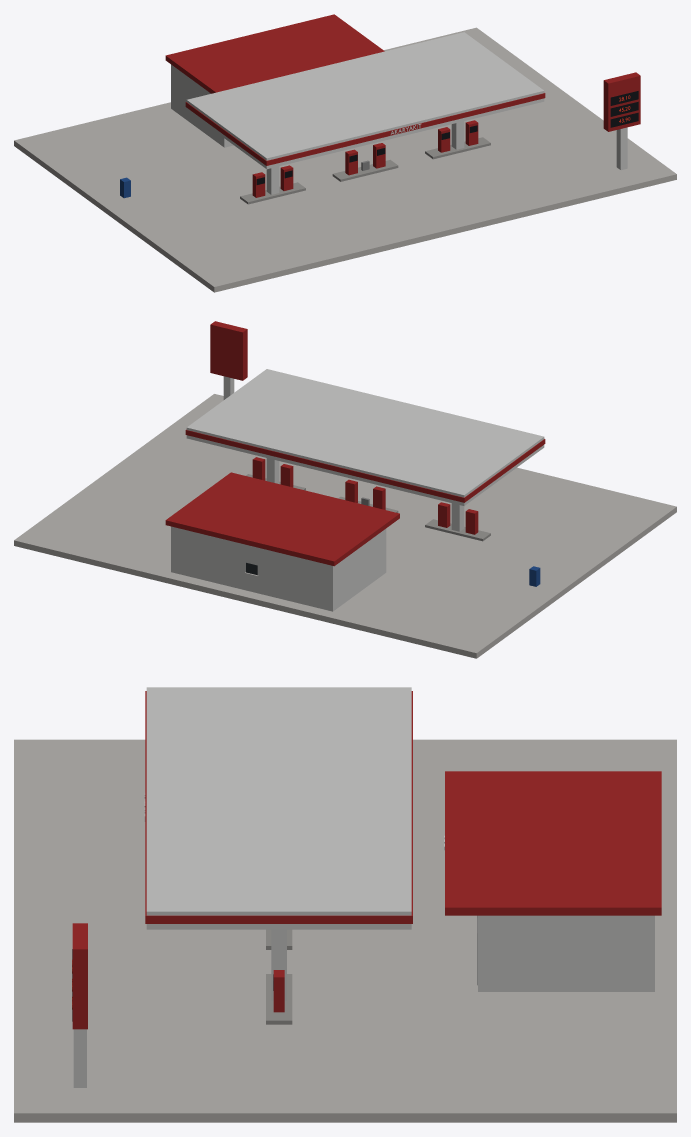
The model's file is bina_19.glb.
3 renders of one model, top to bottom at view 1: azimuth 30°, elevation 25°; view 2: azimuth 150°, elevation 25°; view 3: azimuth 270°, elevation 25°, orthographic. The views are drawn at different scales.
Parts seen in each view (by area): view 1: P19_Benzinlik_L1.001; view 2: P19_Benzinlik_L1.001; view 3: P19_Benzinlik_L1.001.
Part boxes in pixels (x1,y1,x2,y2): P19_Benzinlik_L1.001: [14, 14, 676, 292]; P19_Benzinlik_L1.001: [14, 321, 676, 658]; P19_Benzinlik_L1.001: [14, 687, 676, 1122].
Size of the model in its own units: 40 by 7.9 by 30.
